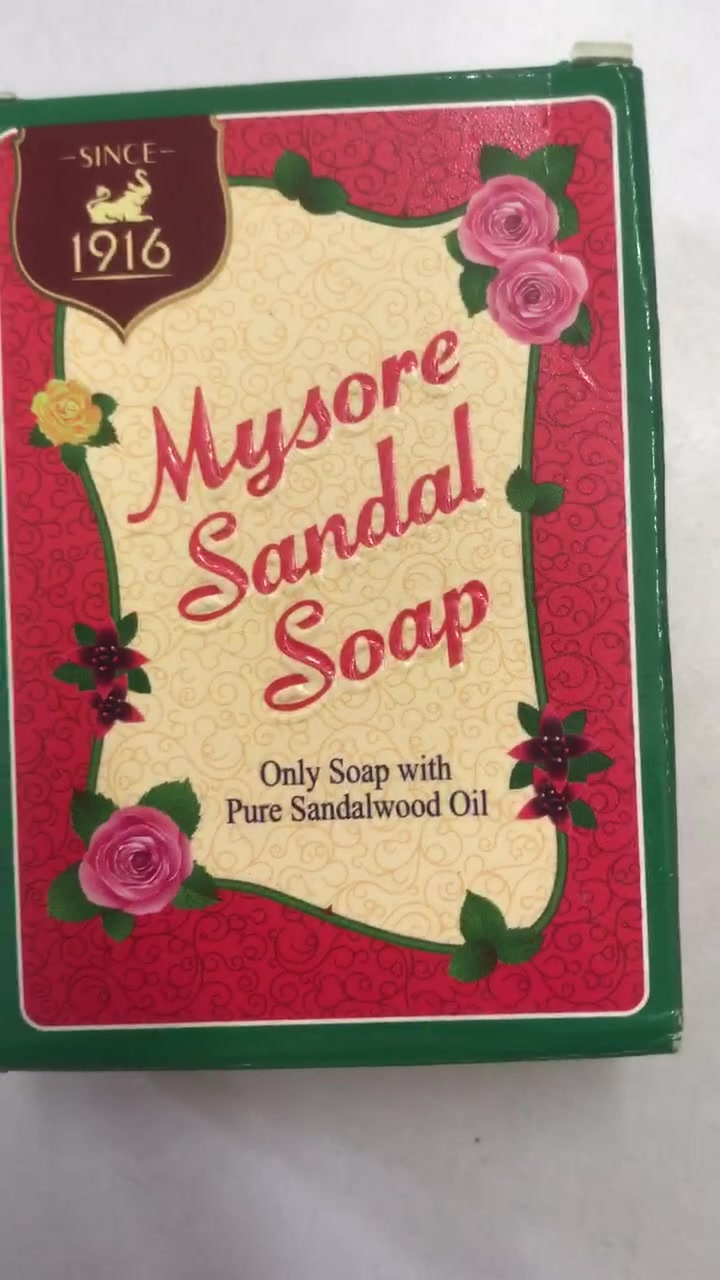mysore sandal soap: (6, 68, 658, 1046)
